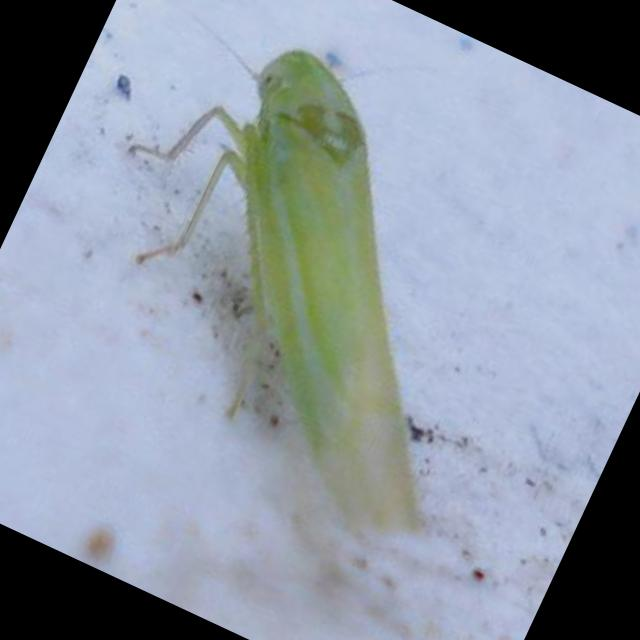green-leafhopper: (88, 20, 588, 547)
